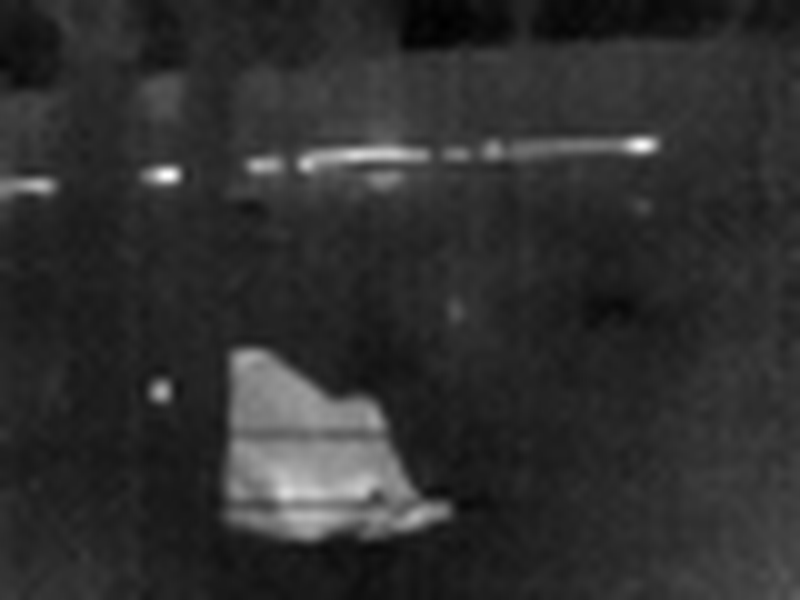elephant: (127, 347, 424, 542)
